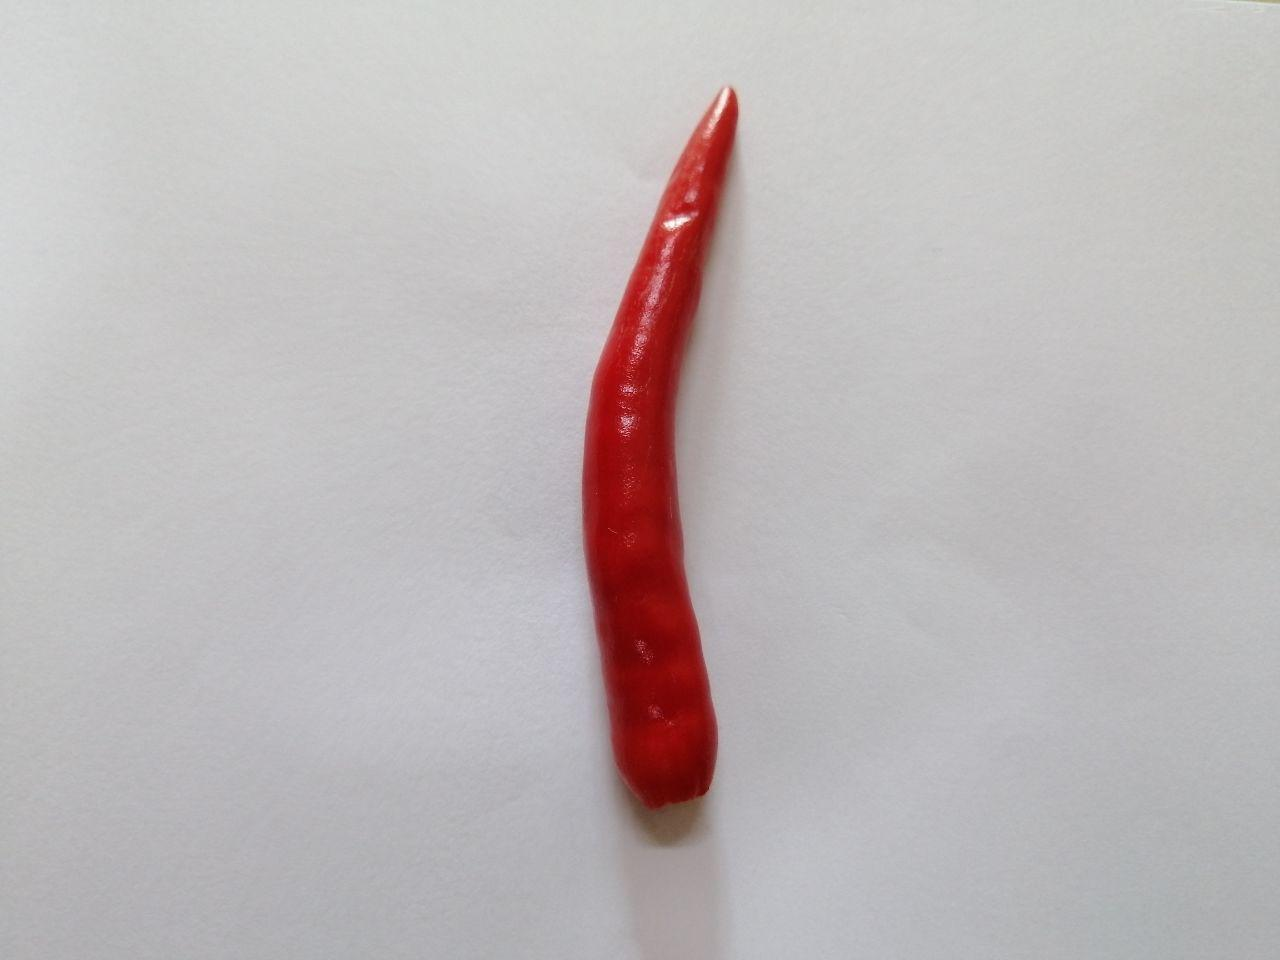lada merah: (566, 52, 788, 858)
